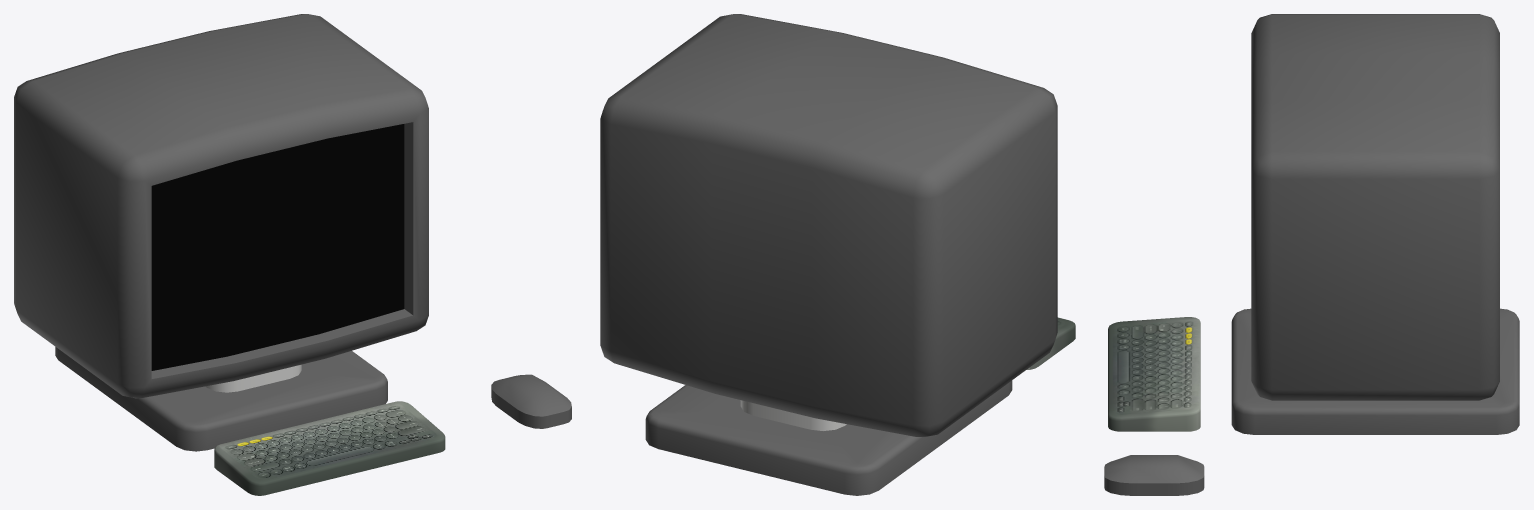
File: SM_Props_Computer.fbx
The picture shows the model from 3 angles, left to right: view 1: azimuth 30°, elevation 25°; view 2: azimuth 150°, elevation 25°; view 3: azimuth 270°, elevation 25°; orthographic projection. The views are drawn at different scales.
Parts seen in each view (by area): view 1: SM_Props_Computer; view 2: SM_Props_Computer; view 3: SM_Props_Computer.
Boxes of the visible parts, x1,y1,x2,y2 form: SM_Props_Computer: [14, 14, 571, 495]; SM_Props_Computer: [600, 14, 1075, 495]; SM_Props_Computer: [1104, 14, 1519, 495].
Bounding box in the file's own units: 0.749 × 0.5617 × 0.6916.
